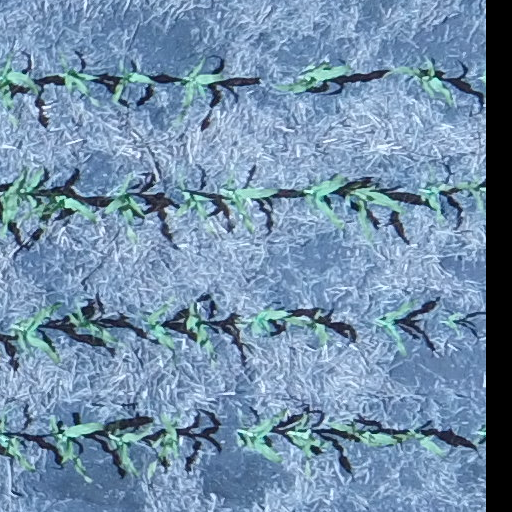planta: (221, 169, 279, 234), (49, 413, 106, 476), (177, 56, 228, 123), (343, 182, 404, 237), (383, 55, 452, 103), (9, 303, 59, 362), (283, 410, 326, 478), (103, 174, 147, 240), (106, 421, 153, 476), (67, 303, 125, 347), (374, 298, 420, 353), (43, 51, 99, 96), (271, 63, 354, 93), (302, 173, 347, 228), (239, 411, 285, 462), (147, 413, 181, 479), (176, 177, 215, 233), (24, 193, 96, 222), (324, 421, 400, 447), (384, 428, 445, 458), (282, 309, 328, 347), (144, 296, 176, 349), (183, 301, 214, 353), (111, 69, 154, 104), (419, 182, 456, 220), (18, 166, 46, 207), (250, 307, 294, 332), (455, 176, 483, 210), (442, 313, 463, 333)
